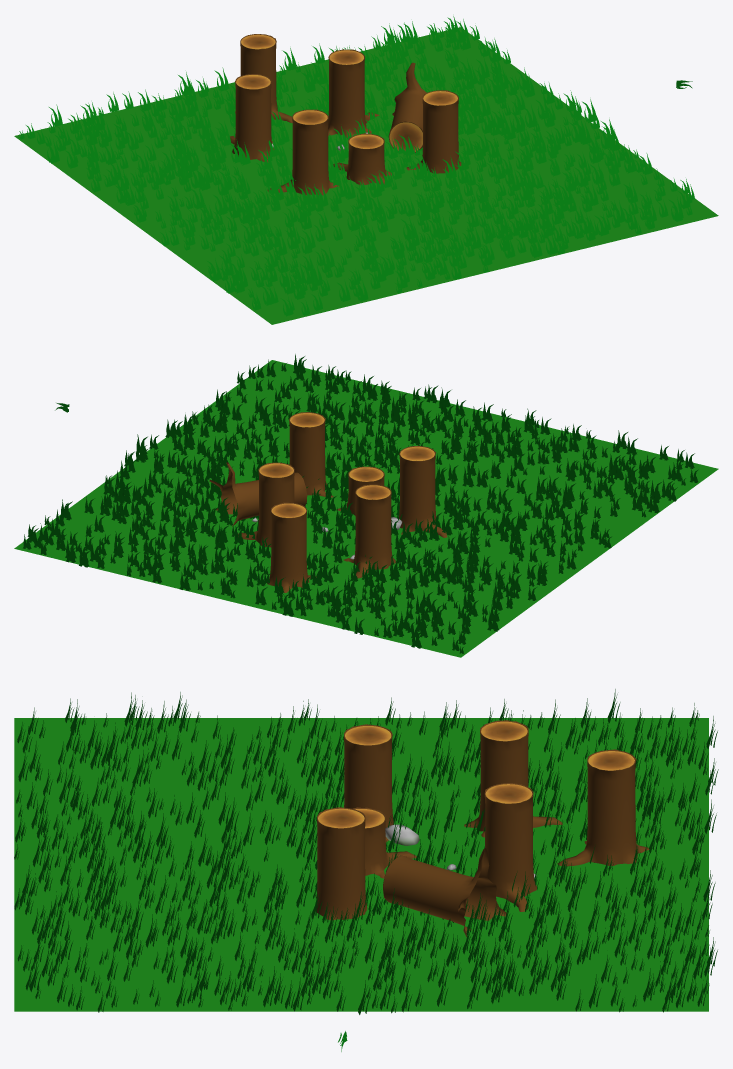
The model's file is Arbol2.fbx.
The picture shows the model from 3 angles, top to bottom: view 1: azimuth 30°, elevation 25°; view 2: azimuth 150°, elevation 25°; view 3: azimuth 270°, elevation 25°; orthographic projection. The views are drawn at different scales.
Visible parts, largest first — view 1: Prato, Tronco.004, Tronco.001, Tronco.002, Tronco.006, Tronco.003, Tronco, Tronco.005; view 2: Prato, Tronco.002, Tronco.005, Tronco.004, Tronco.006, Tronco.001, Tronco.003, Tronco; view 3: Prato, Tronco.005, Tronco.003, Tronco.001, Tronco.006, Tronco.004, Tronco.002, Tronco.
Boxes of the visible parts, box(x1,y1,x2,y2) form: Prato: box(14, 27, 718, 324); Tronco.004: box(267, 109, 338, 195); Tronco.001: box(328, 49, 379, 137); Tronco.002: box(230, 74, 274, 162); Tronco.006: box(406, 90, 461, 173); Tronco.003: box(388, 62, 426, 152); Tronco: box(333, 133, 391, 185); Tronco.005: box(235, 34, 292, 122); Prato: box(14, 360, 718, 657); Tronco.002: box(343, 484, 395, 578); Tronco.005: box(267, 502, 316, 592); Tronco.004: box(399, 445, 447, 537); Tronco.006: box(289, 412, 333, 497); Tronco.001: box(238, 462, 294, 547); Tronco.003: box(209, 462, 307, 526); Tronco: box(336, 466, 384, 515); Prato: box(14, 718, 708, 1011); Tronco.005: box(557, 749, 649, 866); Tronco.003: box(383, 848, 507, 937); Tronco.001: box(484, 783, 536, 911); Tronco.006: box(315, 807, 367, 920); Tronco.004: box(344, 724, 393, 842); Tronco.002: box(464, 720, 562, 837); Tronco: box(353, 807, 416, 878).
Bounding box in the file's own units: 3395 × 567 × 2809.
